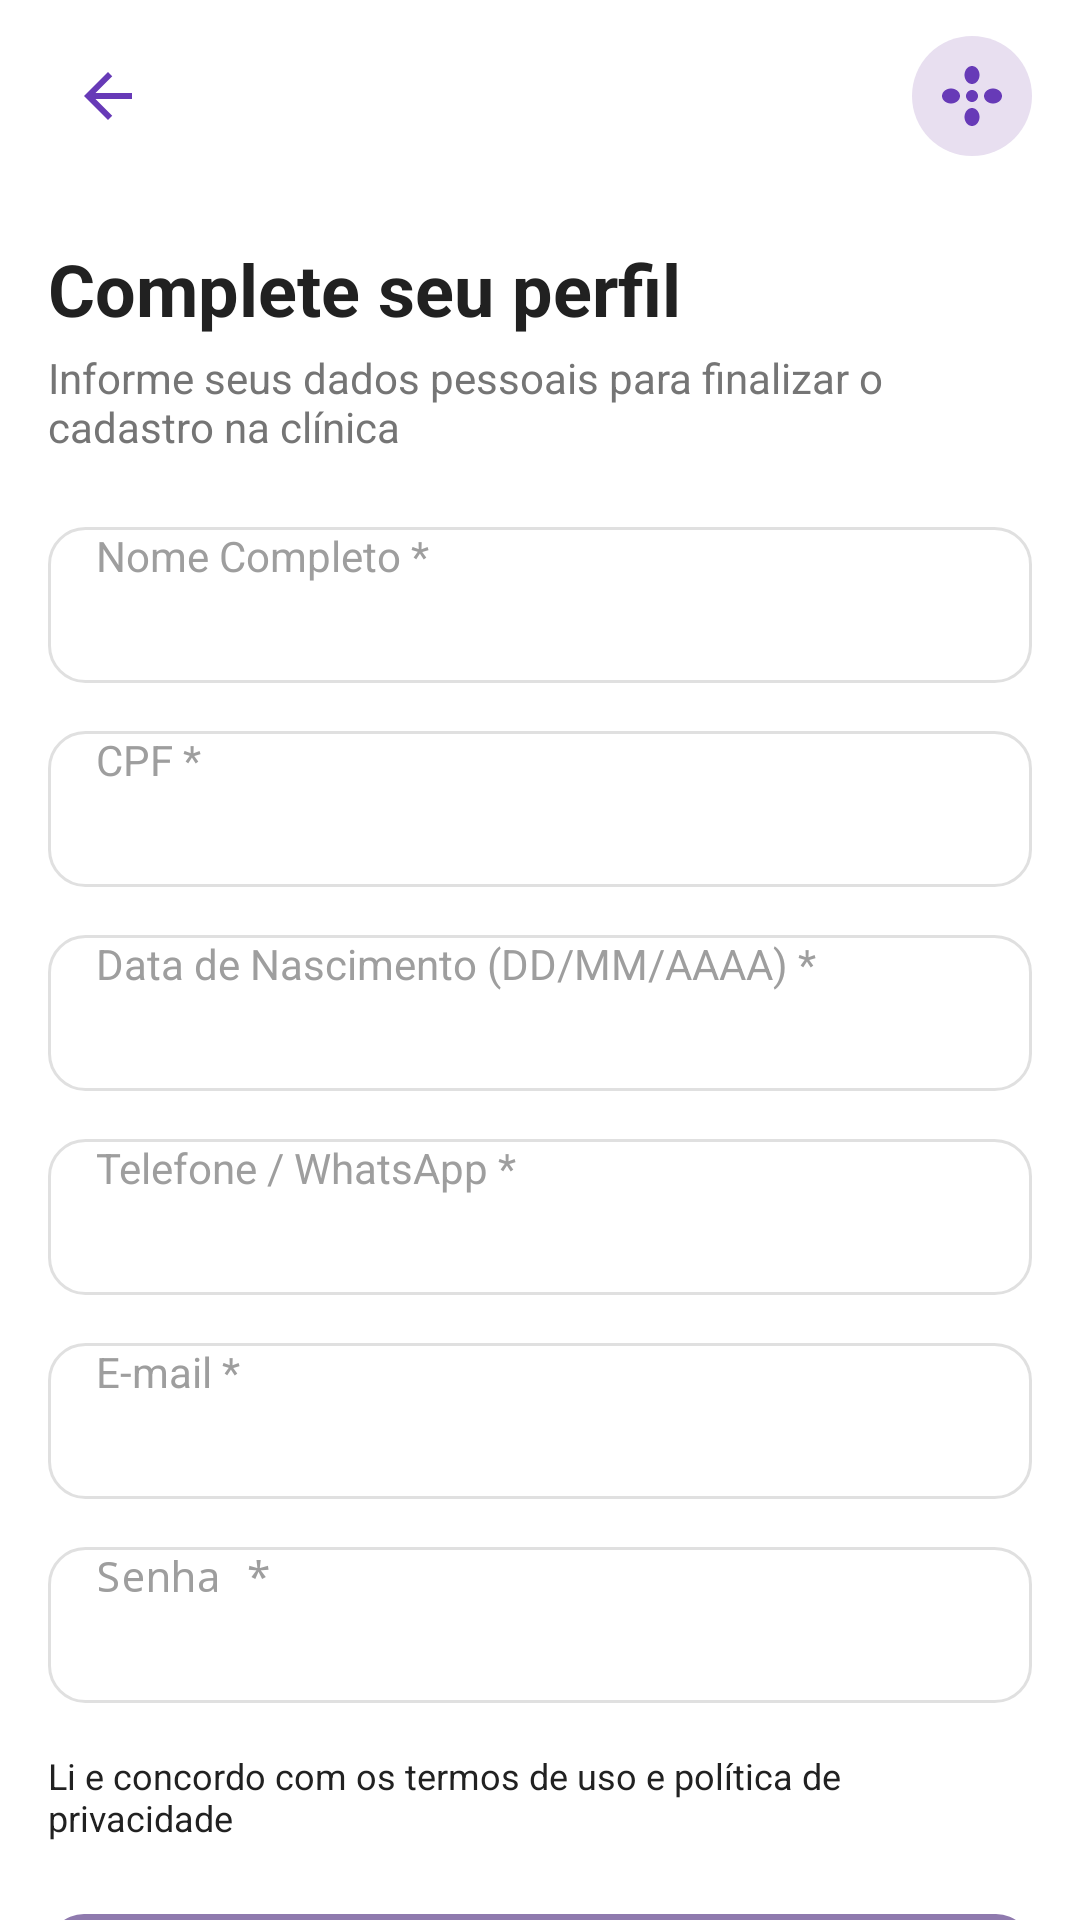

Named icons in this screenshot (1080w x 1920h) and their centers, (x,y):
Voltar: (108,96)
